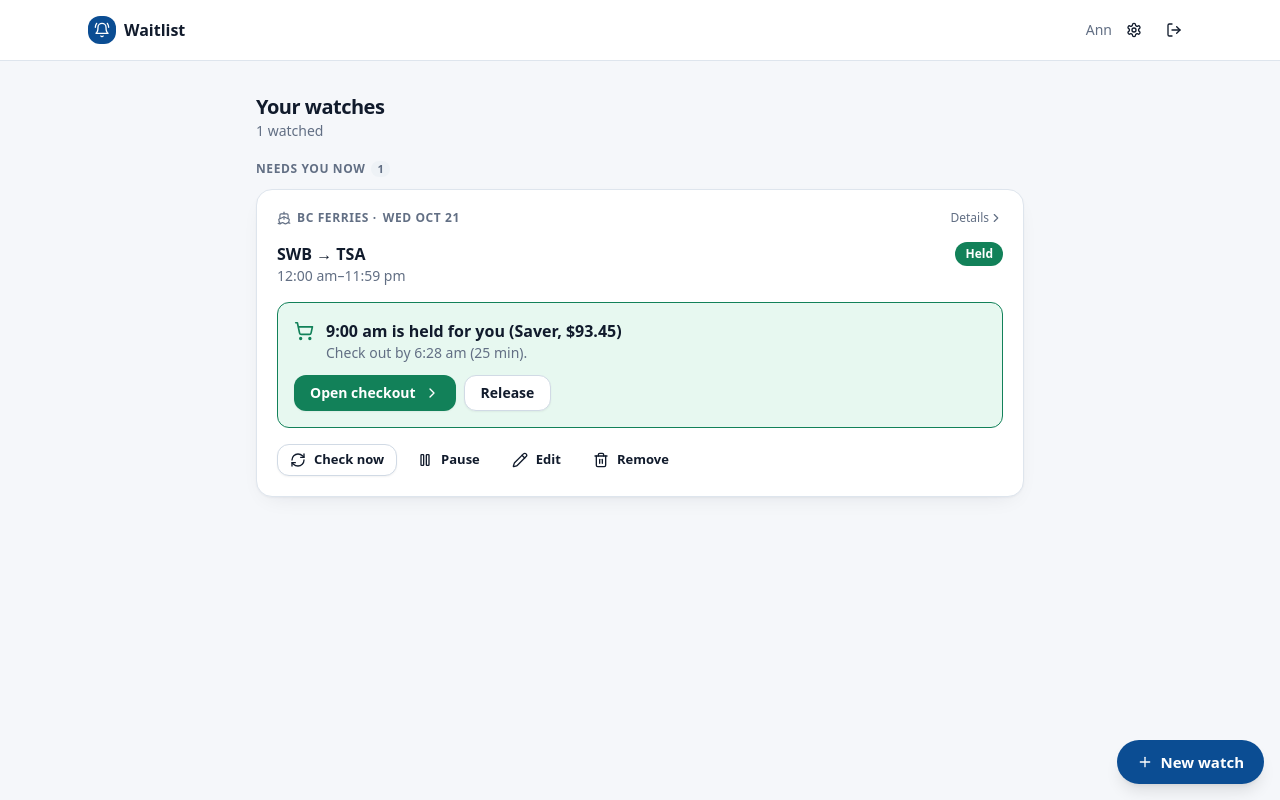
Test: settings › has its own page, opened from the header, not beside the trips
Expected: the heading "Your watches" is shown, left=256, top=93, right=384, bottom=121
Expected: the heading "Your account" is not shown
What coordinates should you click on to do the following:
click the button named "Settings"
I would click on:
 (1134, 30)
Its box is left=1116, top=12, right=1152, bottom=48.
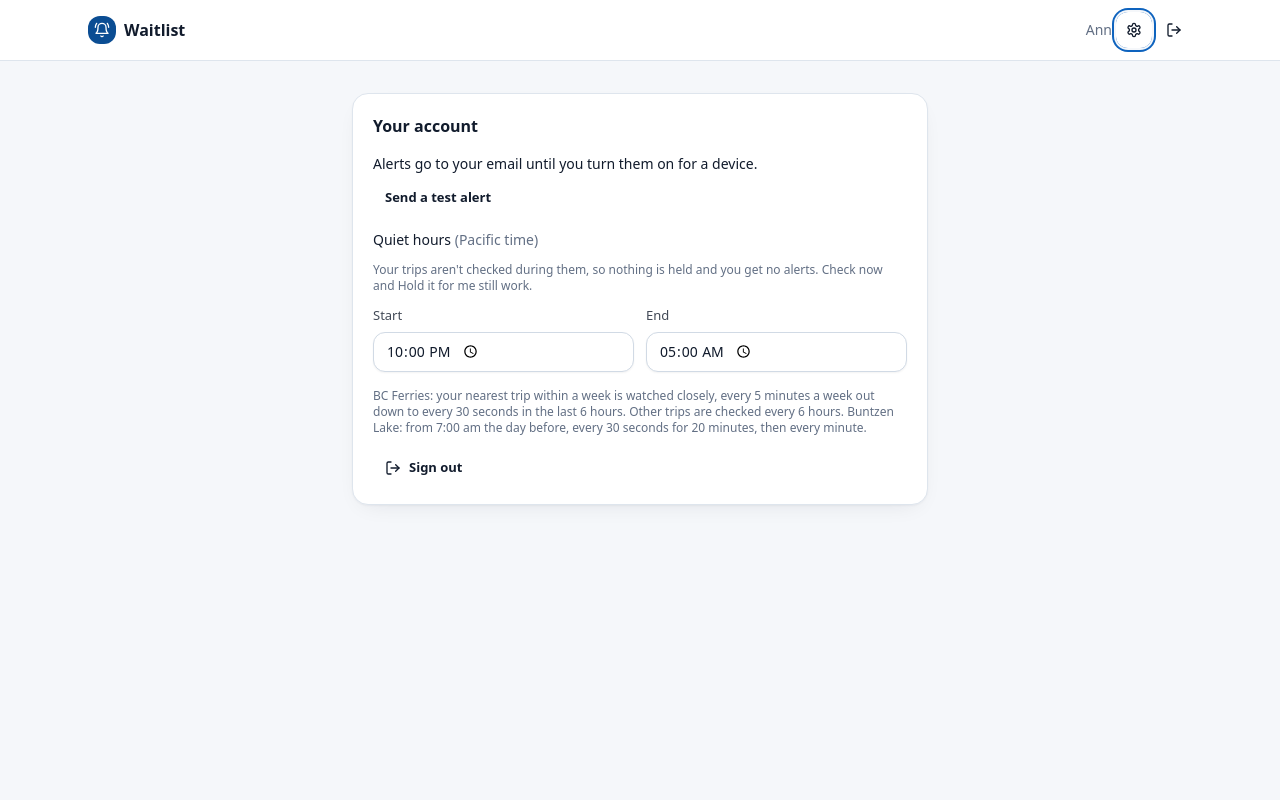
Expected: the heading "Your account" is shown, left=373, top=115, right=478, bottom=137
Expected: the heading "Your watches" is gone
